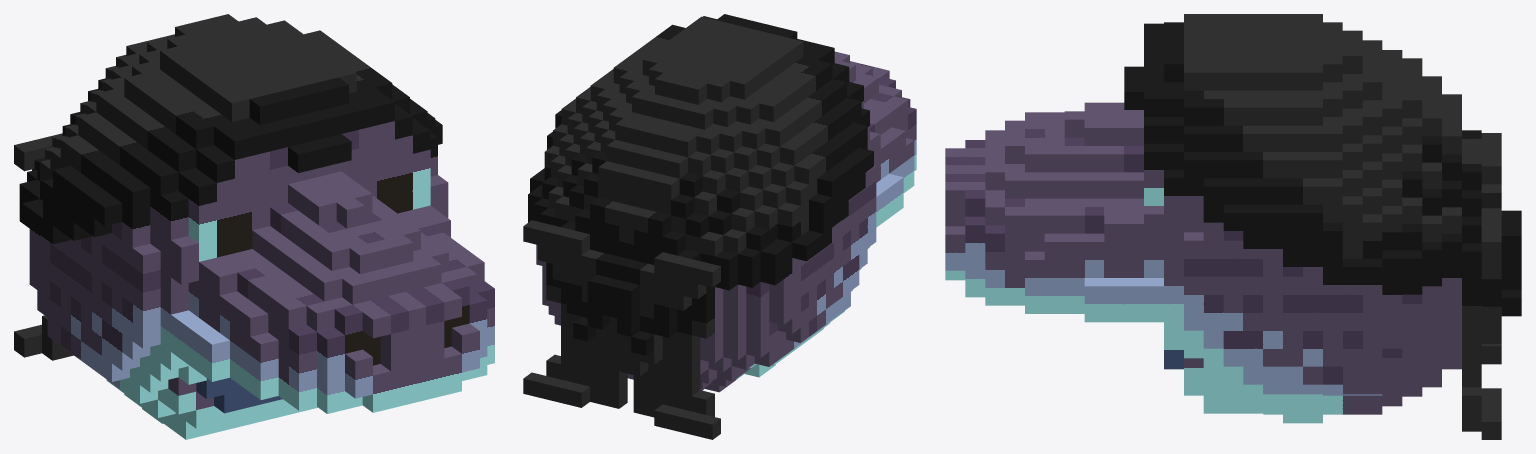
Rendered from black durag_golden glasses.gltf.
3 renders of one model, left to right at view 1: azimuth 30°, elevation 25°; view 2: azimuth 150°, elevation 25°; view 3: azimuth 270°, elevation 25°, orthographic. The views are drawn at different scales.
Parts seen in each view (by area): view 1: C17_H_blacDurag_redG-Mesh; view 2: C17_H_blacDurag_redG-Mesh; view 3: C17_H_blacDurag_redG-Mesh.
Part boxes in pixels (x1,y1,x2,y2): C17_H_blacDurag_redG-Mesh: (14, 14, 494, 439); C17_H_blacDurag_redG-Mesh: (523, 14, 916, 439); C17_H_blacDurag_redG-Mesh: (945, 14, 1521, 439).
Size of the model in its own units: 19 by 19 by 29.
Materials: 1 (1 with a texture image).
